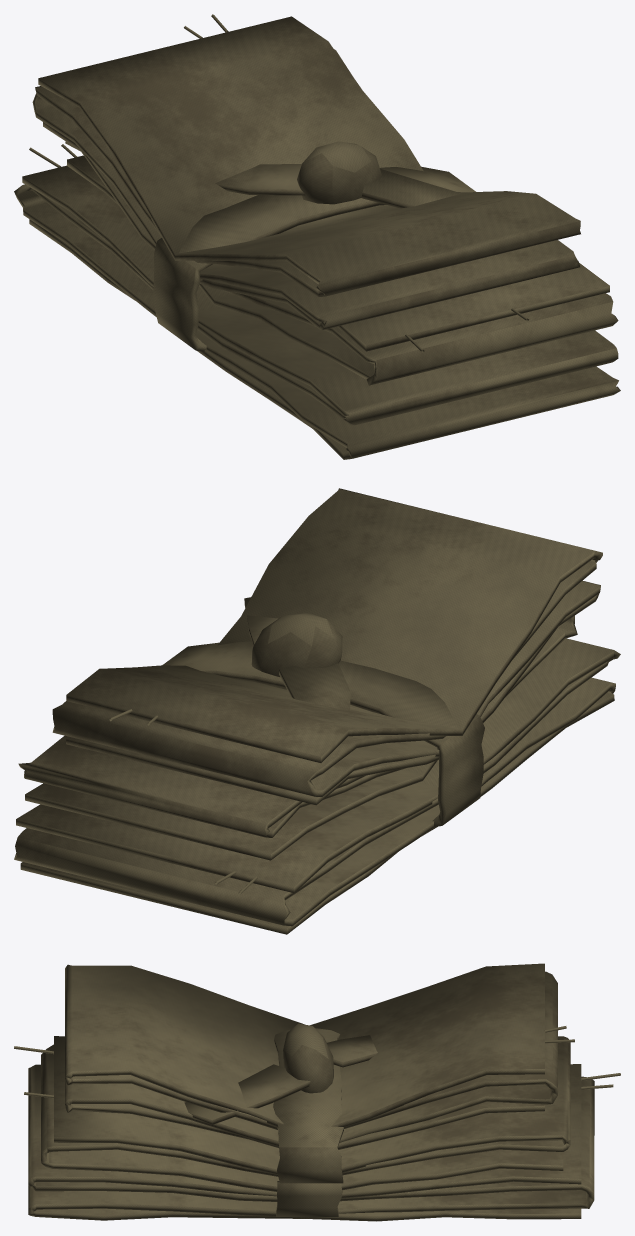
Rendered from prop_bandage_01.gltf.
The picture shows the model from 3 angles, top to bottom: view 1: azimuth 30°, elevation 25°; view 2: azimuth 150°, elevation 25°; view 3: azimuth 270°, elevation 25°; orthographic projection. The views are drawn at different scales.
Parts seen in each view (by area): view 1: prop_bandage_01_item_cloth_bone_01; view 2: prop_bandage_01_item_cloth_bone_01; view 3: prop_bandage_01_item_cloth_bone_01.
Part boxes in pixels (left/top/right/bottom): prop_bandage_01_item_cloth_bone_01: left=14, top=14, right=620, bottom=459; prop_bandage_01_item_cloth_bone_01: left=14, top=488, right=620, bottom=934; prop_bandage_01_item_cloth_bone_01: left=14, top=963, right=620, bottom=1221.
Bounding box in the file's own units: 0.064 × 0.0369 × 0.1335.
1 material, 1 textured.
